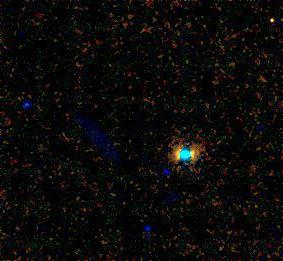star: (133, 212, 163, 242)
